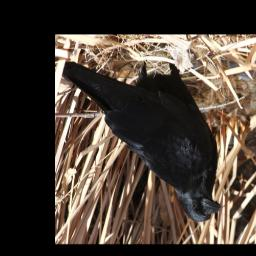Crow: (61, 60, 224, 223)
